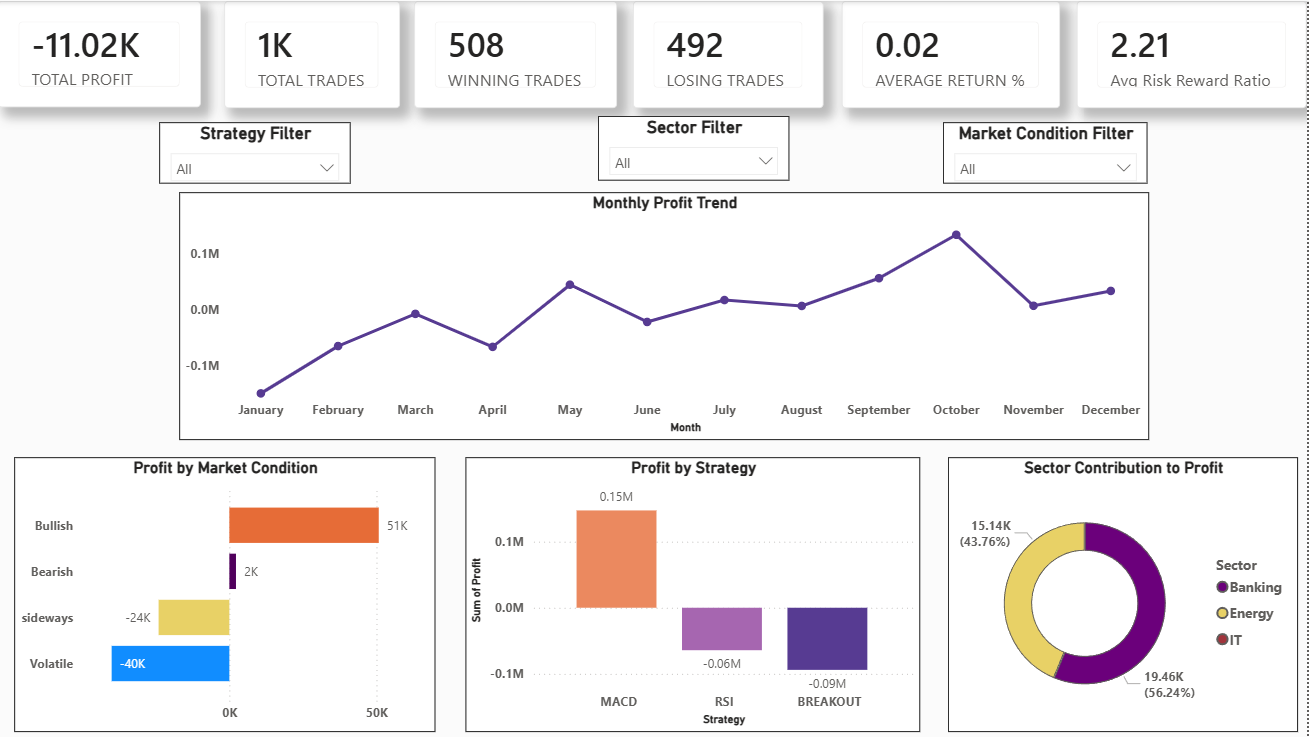

The dashboard page shown, as its layout file describes it:
{"tool":"powerbi","page":{"name":" Executive Summary Dashboard","canvas":[1280,720],"ordinal":0},"visuals":[{"type":"cardVisual","fields":{"Data":["trading_dataset_final.Average Return %"]},"box":[825,0,213.3,105],"z":0},{"type":"cardVisual","fields":{"Data":["trading_dataset_final.Total Trades"]},"box":[221.7,0,171.7,105],"z":1000},{"type":"cardVisual","fields":{"Data":["trading_dataset_final.Avg Risk Reward Ratio"]},"box":[1055,0,225,105],"z":2000},{"type":"cardVisual","fields":{"Data":["trading_dataset_final.Win Rate %"]},"box":[406.7,0,198.3,105],"z":3000},{"type":"cardVisual","fields":{"Data":["trading_dataset_final.Total Profit"]},"box":[0,0,198.8,104.4],"z":4000},{"type":"lineChart","title":"Monthly Profit Trend","fields":{"Y":["Sum(trading_dataset_final.Profit)"],"Category":["trading_dataset_final.Trade_Date.Variation.Date Hierarchy.Month"]},"box":[177.3,187.1,948.9,242.1],"z":5000},{"type":"clusteredColumnChart","title":"Profit by Strategy","fields":{"Category":["trading_dataset_final.Strategy"],"Y":["Sum(trading_dataset_final.Profit)"]},"box":[457.3,446.3,445.1,269],"z":6000},{"type":"donutChart","title":"Sector Contribution to Profit","fields":{"Category":["trading_dataset_final.Sector"],"Y":["Sum(trading_dataset_final.Profit)"]},"box":[929.4,446.3,342.4,269],"z":7000},{"type":"cardVisual","fields":{"Data":["trading_dataset_final.Losing Trades"]},"box":[621.7,0,186.7,105],"z":8000},{"type":"clusteredBarChart","title":"Profit by Market Condition","fields":{"Category":["trading_dataset_final.Market_Condition"],"Y":["trading_dataset_final.Total Profit"]},"box":[15.9,446.3,412.1,269],"z":9000},{"type":"slicer","title":"Strategy Filter","fields":{"Values":["trading_dataset_final.Strategy"]},"box":[157.1,118.6,187.1,60],"z":10000},{"type":"slicer","title":"Sector Filter","fields":{"Values":["trading_dataset_final.Sector"]},"box":[587,112.5,187.1,63.6],"z":11000},{"type":"slicer","title":"Market Condition Filter","fields":{"Values":["trading_dataset_final.Market_Condition"]},"box":[925,118.3,200,60],"z":12000}]}

Visuals, with their boxes in screenshot pixels (x1, y1, x2, y2), scaled from the page's 1280x720 canvas onto the 1309x737 screenshot:
cardVisual - trading_dataset_final.Average Return %: (left=844, top=0, right=1062, bottom=107)
cardVisual - trading_dataset_final.Total Trades: (left=227, top=0, right=402, bottom=107)
cardVisual - trading_dataset_final.Avg Risk Reward Ratio: (left=1079, top=0, right=1308, bottom=107)
cardVisual - trading_dataset_final.Win Rate %: (left=416, top=0, right=619, bottom=107)
cardVisual - trading_dataset_final.Total Profit: (left=0, top=0, right=203, bottom=107)
"Monthly Profit Trend" lineChart: (left=181, top=192, right=1152, bottom=439)
"Profit by Strategy" clusteredColumnChart: (left=468, top=457, right=923, bottom=732)
"Sector Contribution to Profit" donutChart: (left=950, top=457, right=1301, bottom=732)
cardVisual - trading_dataset_final.Losing Trades: (left=636, top=0, right=827, bottom=107)
"Profit by Market Condition" clusteredBarChart: (left=16, top=457, right=438, bottom=732)
"Strategy Filter" slicer: (left=161, top=121, right=352, bottom=183)
"Sector Filter" slicer: (left=600, top=115, right=792, bottom=180)
"Market Condition Filter" slicer: (left=946, top=121, right=1150, bottom=183)
